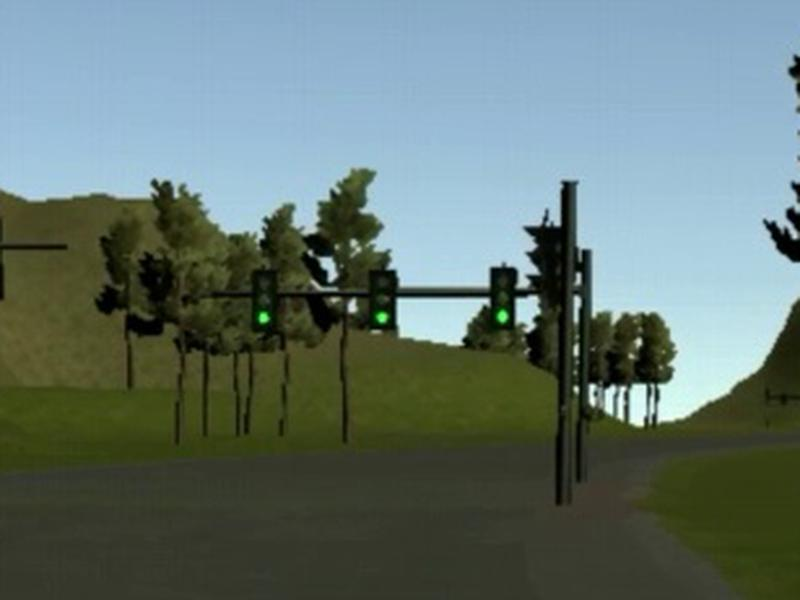Green: (250, 269, 277, 331), (489, 266, 514, 330), (370, 269, 396, 329)
